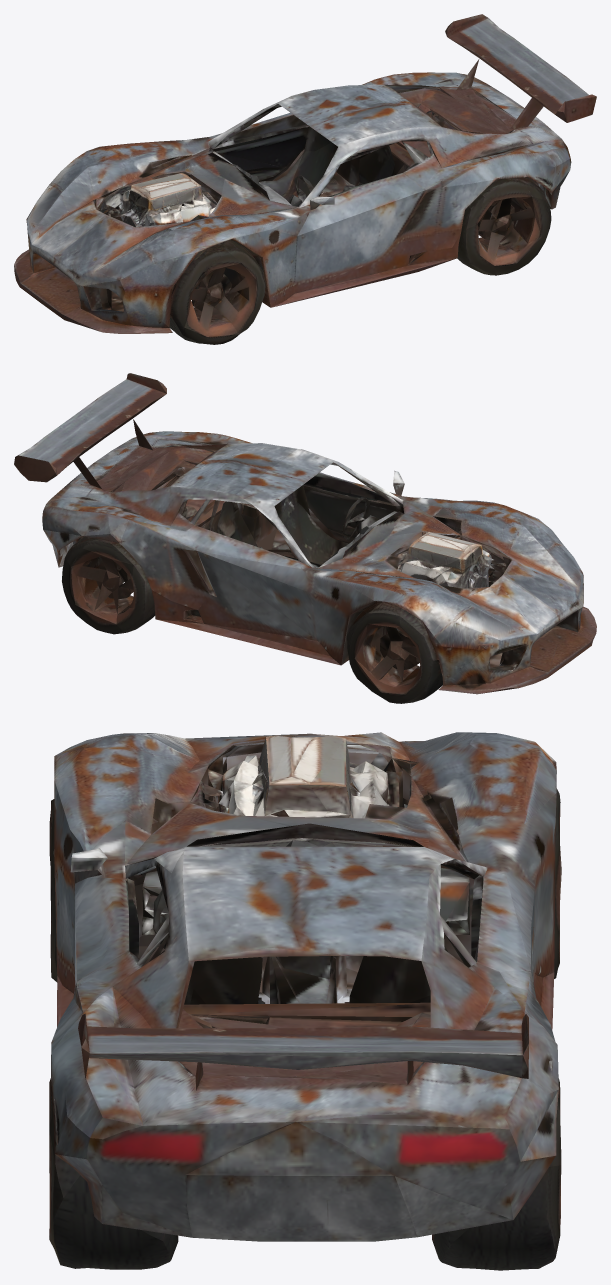
File: redline_close_lod_2k.glb
The picture shows the model from 3 angles, top to bottom: view 1: azimuth 30°, elevation 25°; view 2: azimuth 150°, elevation 25°; view 3: azimuth 270°, elevation 25°; orthographic projection. The views are drawn at different scales.
Size of the model in its own units: 1.89 by 0.5623 by 0.8405.
1 material, 1 textured.
